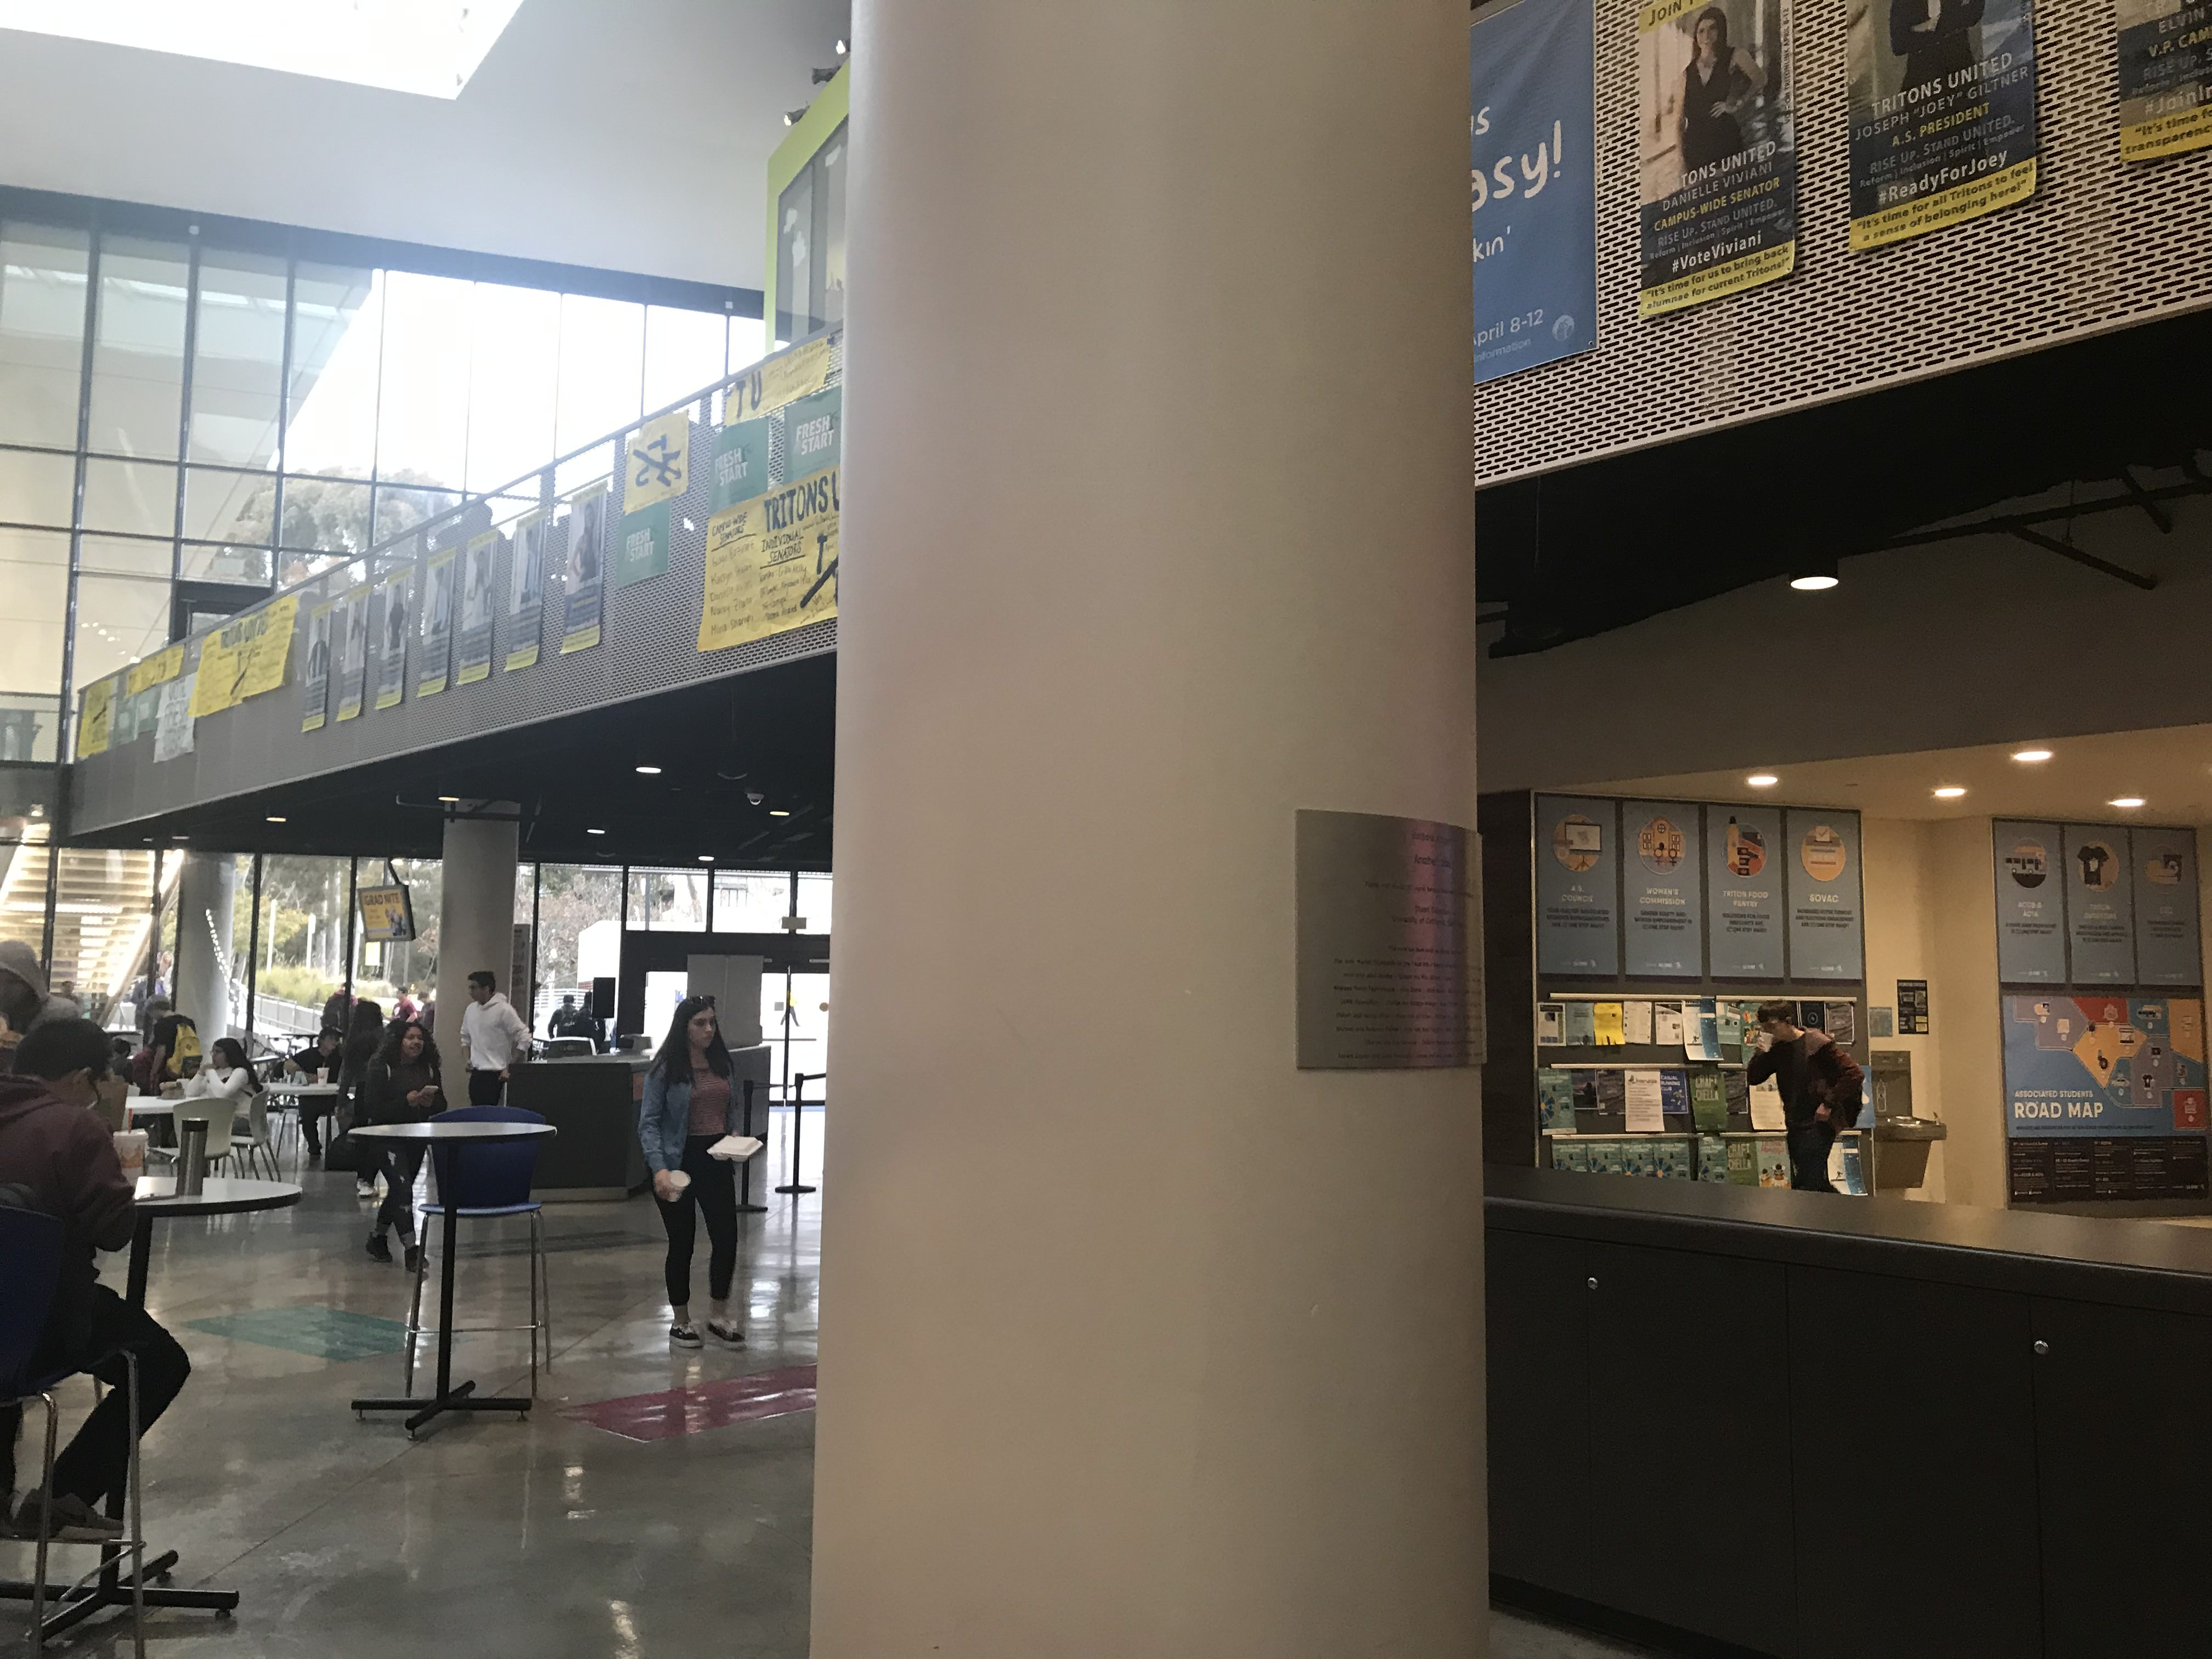Obstacle: (846, 14, 1486, 1654), (1491, 1157, 2207, 1654), (3, 1040, 300, 1654), (350, 1107, 557, 1427), (650, 1000, 756, 1351)
